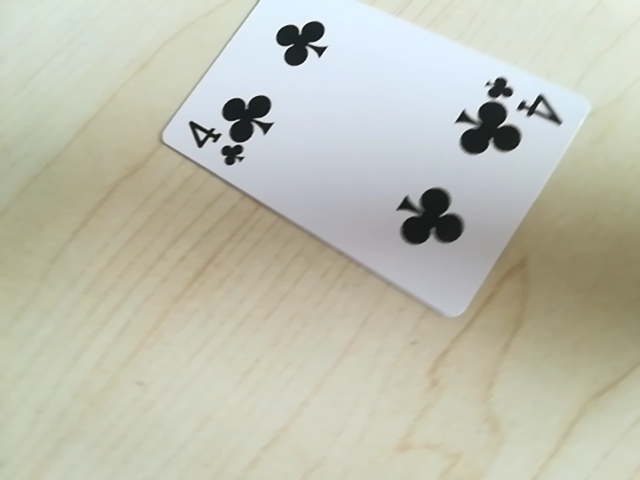mh 4: (478, 71, 561, 124), (184, 116, 256, 169)
